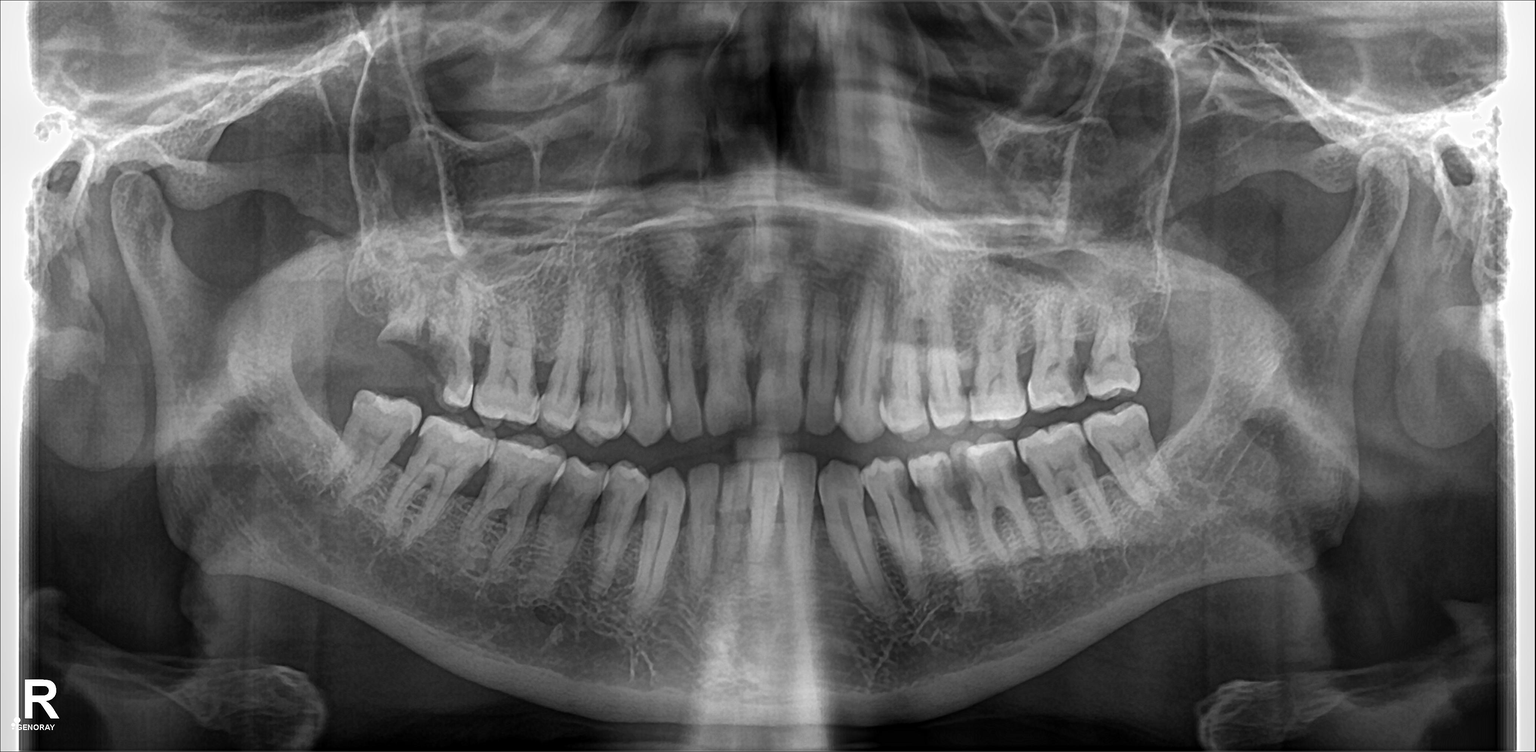Dental Caries: (395, 318, 465, 384), (935, 458, 982, 506)
Missing Tooth: (1132, 277, 1186, 392), (335, 277, 384, 389), (294, 389, 340, 489), (1153, 396, 1202, 487)
Retained Root: (413, 292, 478, 408)
